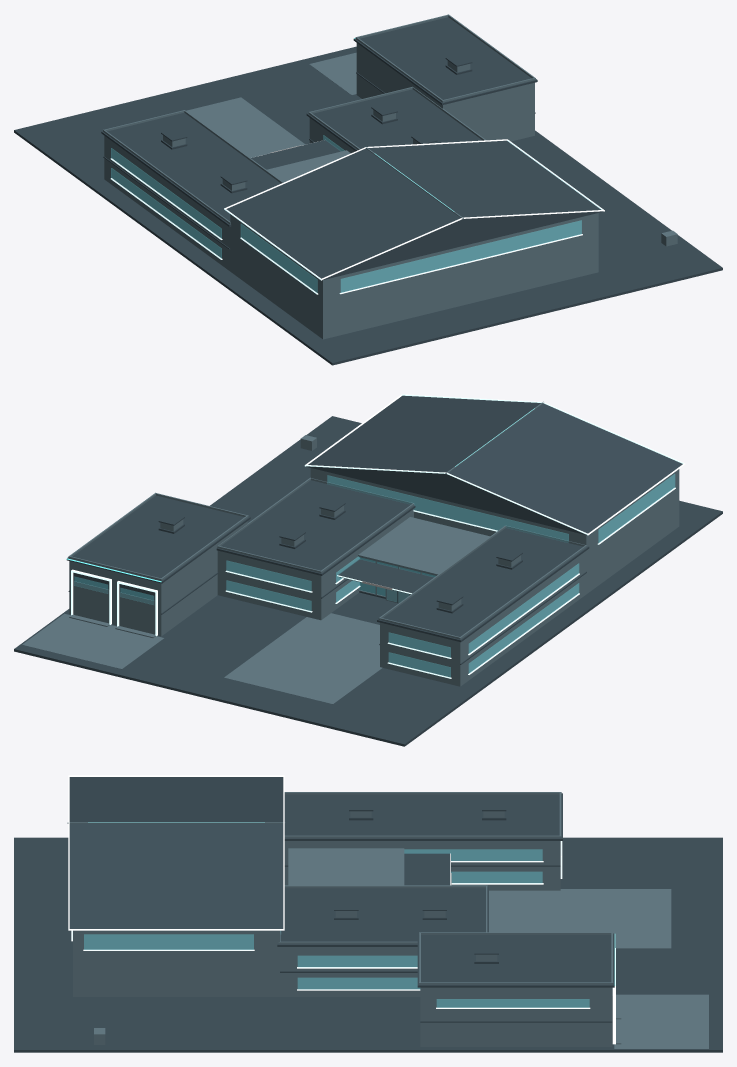
The model's file is school_emergency_services.lod1.glb.
3 views of the same model, one above another, from view 1: azimuth 30°, elevation 25°; view 2: azimuth 150°, elevation 25°; view 3: azimuth 270°, elevation 25° (orthographic). The views are drawn at different scales.
Visible parts, largest first — view 1: school_emergency_services_graphite.001, school_emergency_services_graphite_light.001, school_emergency_services_glass.001, school_emergency_services_white.001; view 2: school_emergency_services_graphite.001, school_emergency_services_graphite_light.001, school_emergency_services_glass.001, school_emergency_services_white.001; view 3: school_emergency_services_graphite.001, school_emergency_services_graphite_light.001, school_emergency_services_glass.001, school_emergency_services_white.001.
Part boxes in pixels (x1,y1,x2,y2): school_emergency_services_graphite.001: [14, 17, 722, 365]; school_emergency_services_graphite_light.001: [103, 14, 677, 339]; school_emergency_services_glass.001: [111, 135, 581, 292]; school_emergency_services_white.001: [110, 139, 604, 294]; school_emergency_services_graphite.001: [14, 395, 722, 746]; school_emergency_services_graphite_light.001: [22, 401, 679, 703]; school_emergency_services_glass.001: [74, 474, 674, 677]; school_emergency_services_white.001: [71, 394, 685, 678]; school_emergency_services_graphite.001: [14, 777, 722, 1052]; school_emergency_services_graphite_light.001: [67, 792, 708, 1048]; school_emergency_services_glass.001: [84, 849, 589, 1007]; school_emergency_services_white.001: [68, 775, 615, 1044].
Size of the model in its own units: 68 by 15.28 by 96.
